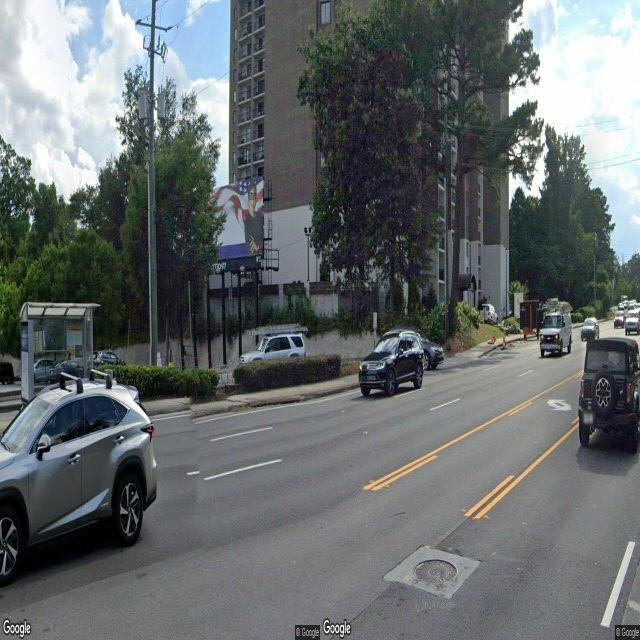shelter: (19, 299, 101, 412)
trash_can: (104, 368, 114, 380)
